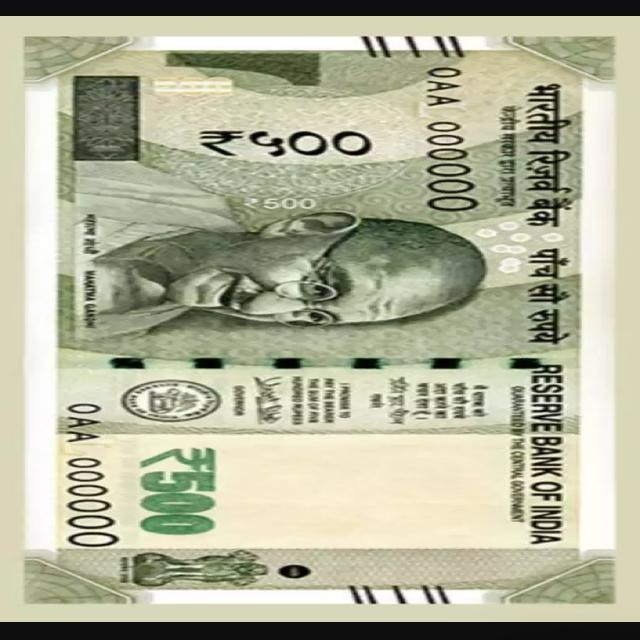500IndianRupees: (25, 37, 615, 603)
